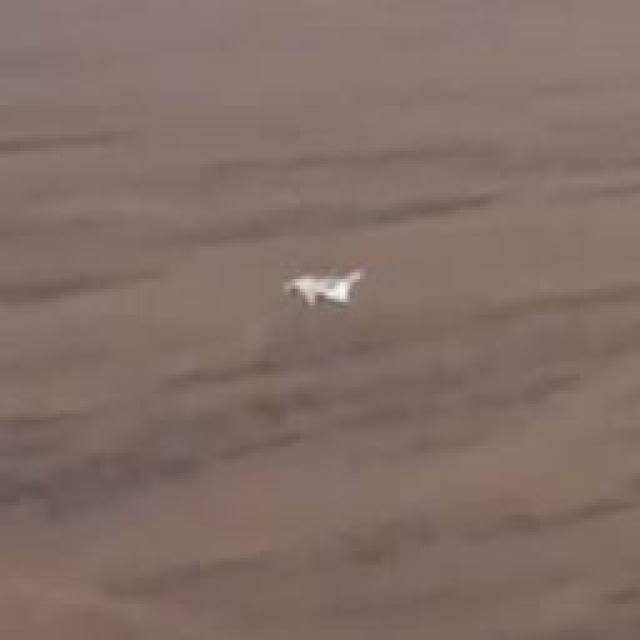iha: (312, 260, 329, 311)
